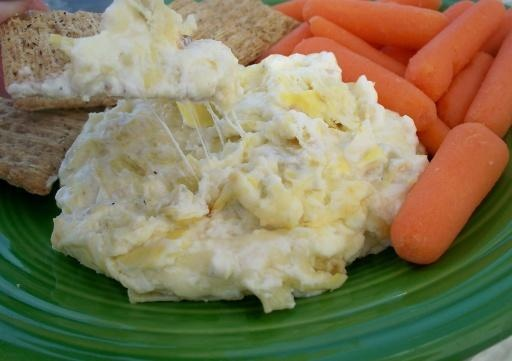background: (0, 0, 410, 177)
